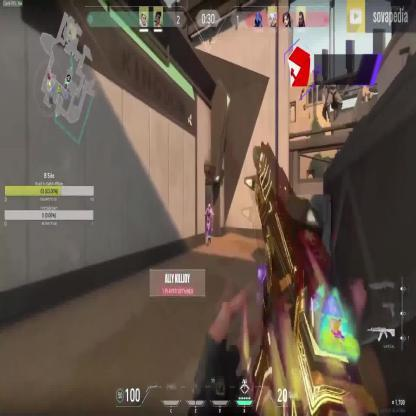enemy: (204, 201, 214, 246)
enemy_head: (208, 203, 211, 210)
